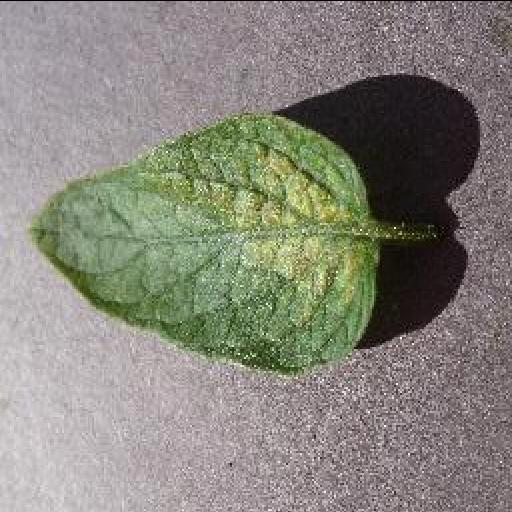disease_tomato: (31, 114, 381, 374)
